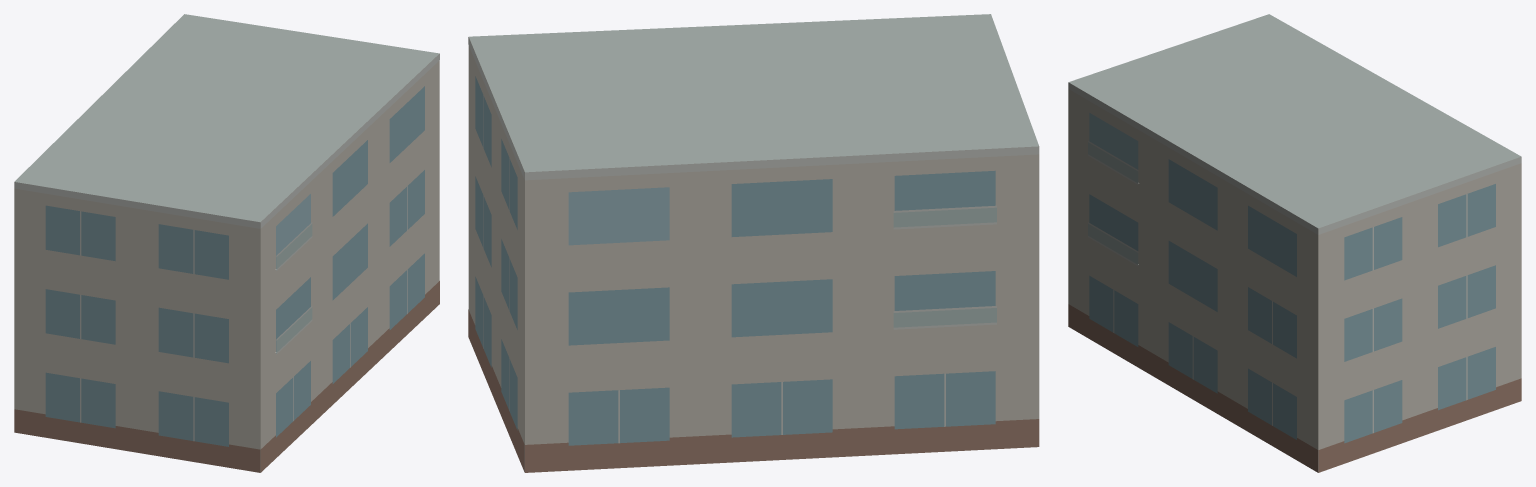
File: survey-upis-32814708.glb
3 views of the same model, side by side, from view 1: azimuth 30°, elevation 25°; view 2: azimuth 150°, elevation 25°; view 3: azimuth 270°, elevation 25° (orthographic). The views are drawn at different scales.
Visible parts, largest first — view 1: survey-upis-32814708.tmp; view 2: survey-upis-32814708.tmp; view 3: survey-upis-32814708.tmp.
Part boxes in pixels (bbox=[...]): survey-upis-32814708.tmp: bbox=[14, 14, 439, 472]; survey-upis-32814708.tmp: bbox=[468, 14, 1039, 472]; survey-upis-32814708.tmp: bbox=[1068, 14, 1521, 472].
Bounding box in the file's own units: 17.23 × 9.15 × 15.39.
